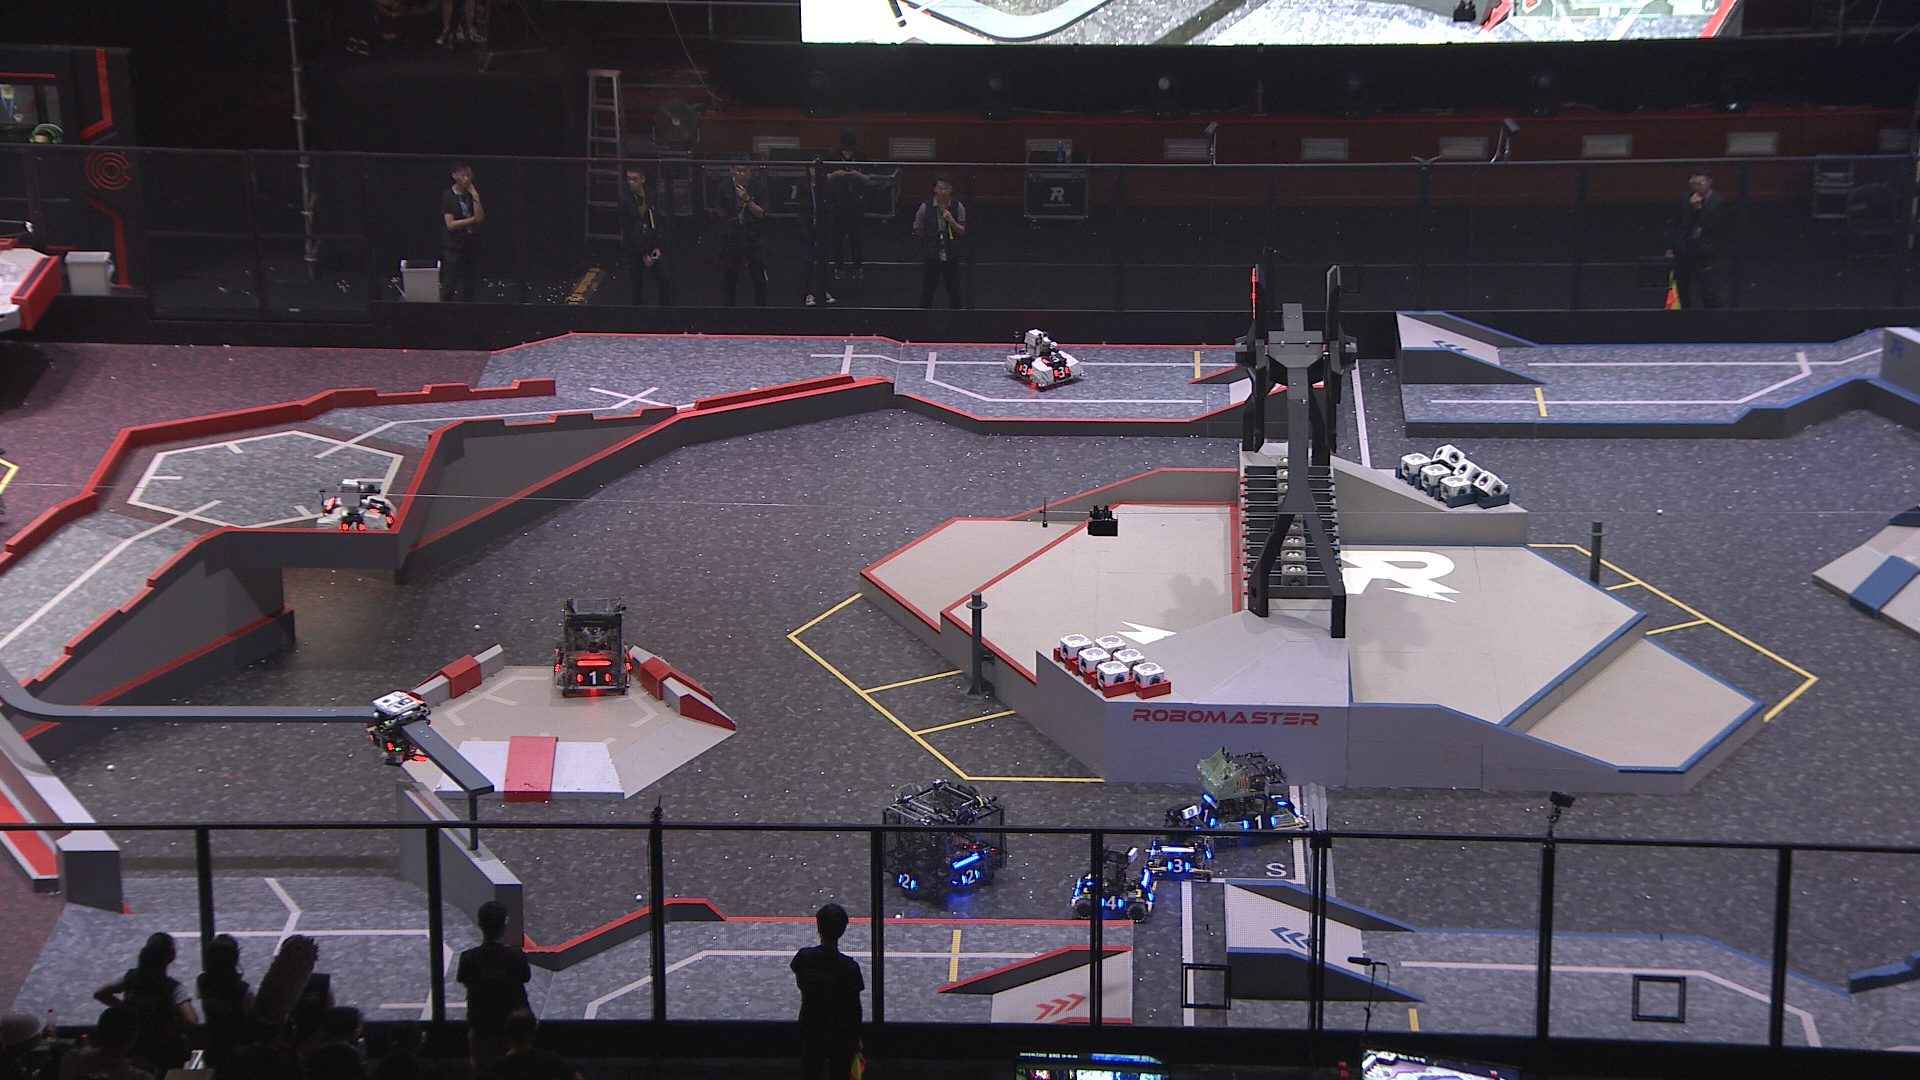armor: (1240, 811, 1278, 832), (574, 671, 613, 688), (368, 731, 396, 752), (1196, 804, 1218, 828), (1098, 894, 1126, 911), (959, 868, 982, 887), (1164, 858, 1191, 874), (895, 873, 918, 891), (367, 496, 386, 516), (1269, 790, 1290, 807), (339, 520, 368, 531), (1040, 353, 1065, 367), (1013, 363, 1034, 377), (1054, 367, 1069, 380)
car: (880, 782, 1007, 909), (1191, 749, 1313, 851), (550, 595, 633, 695), (1068, 845, 1158, 922), (1145, 803, 1216, 884), (311, 480, 400, 538), (1004, 328, 1084, 390)
watcher: (367, 688, 433, 767)
